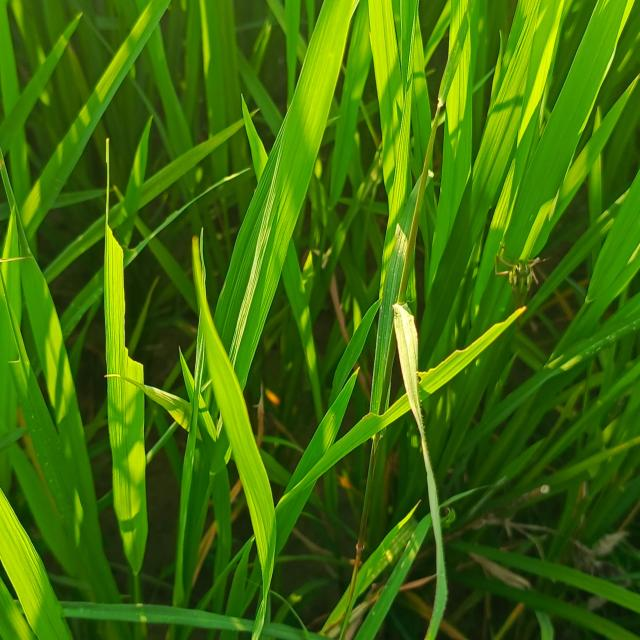belalang pada tanaman padi: (489, 230, 554, 322)
